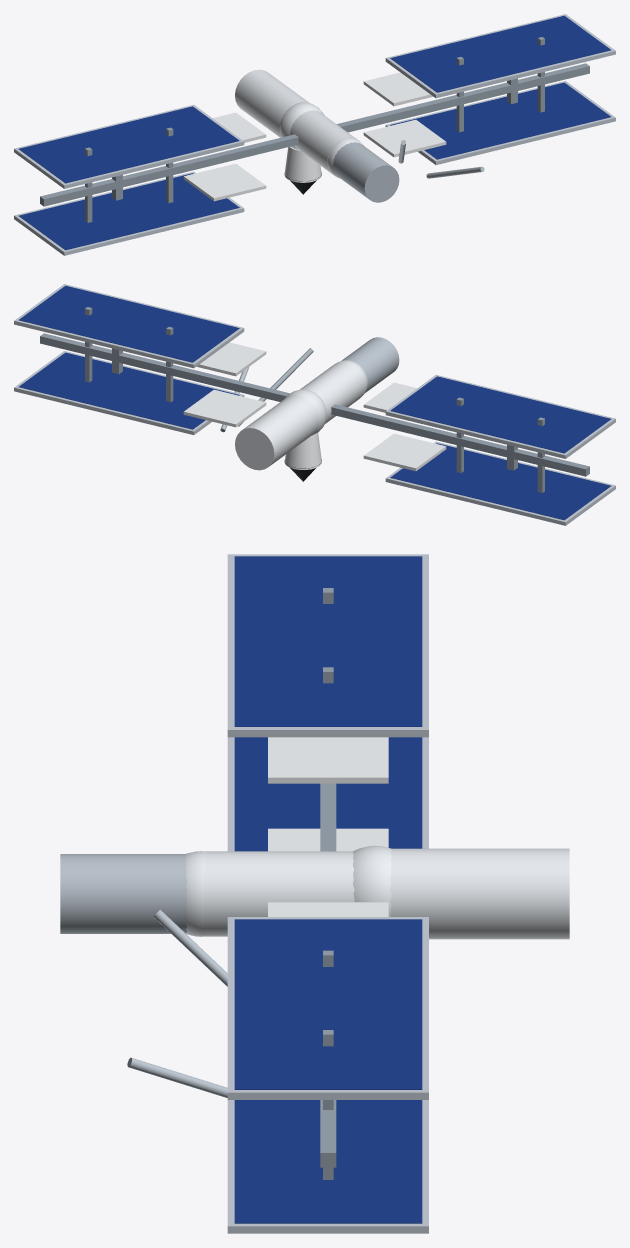
File: iss.glb
The picture shows the model from 3 angles, top to bottom: view 1: azimuth 30°, elevation 25°; view 2: azimuth 150°, elevation 25°; view 3: azimuth 270°, elevation 25°; orthographic projection. The views are drawn at different scales.
Parts seen in each view (by area): view 1: ISS; view 2: ISS; view 3: ISS.
Boxes of the visible parts, x1,y1,x2,y2 form: ISS: (14, 14, 615, 255); ISS: (14, 284, 615, 525); ISS: (60, 554, 569, 1233).
Bounding box in the file's own units: 4 × 0.76 × 1.6.
